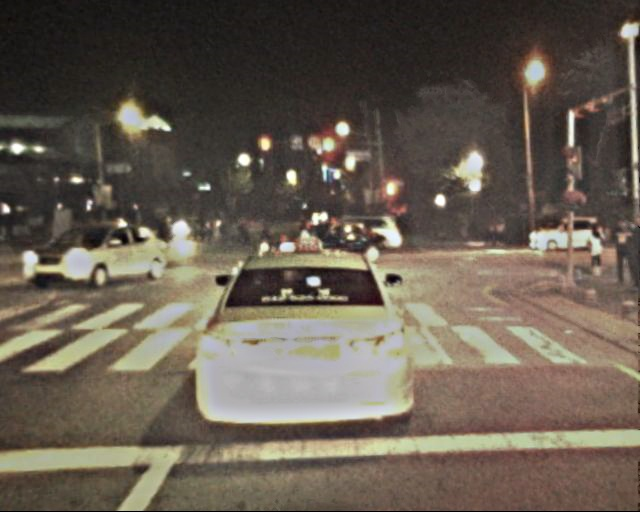person: (608, 219, 635, 285), (197, 209, 246, 244), (586, 226, 607, 276), (150, 209, 167, 245), (492, 214, 507, 247), (257, 213, 271, 246), (295, 211, 307, 241)
